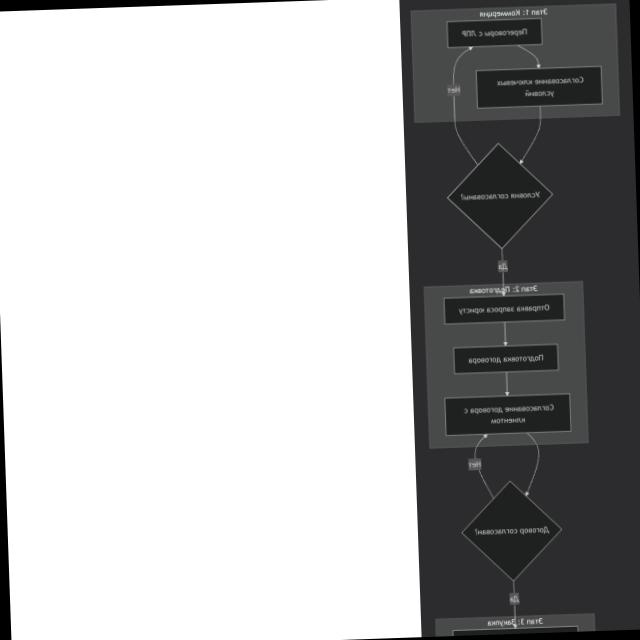arrow: (450, 46, 478, 166), (516, 105, 544, 163), (472, 434, 494, 498), (522, 432, 541, 496), (516, 44, 541, 68), (510, 580, 518, 628), (499, 247, 506, 296), (502, 322, 508, 346), (504, 370, 509, 395)
diamond: (447, 144, 550, 247), (463, 482, 560, 580)
rectangle: (476, 66, 602, 108), (444, 394, 569, 435), (443, 294, 564, 324), (453, 344, 557, 374), (446, 18, 541, 48)
text_region: (478, 7, 548, 19), (468, 284, 538, 294), (487, 616, 542, 628), (447, 85, 460, 94), (468, 459, 481, 468), (498, 262, 507, 272), (509, 596, 519, 602)
